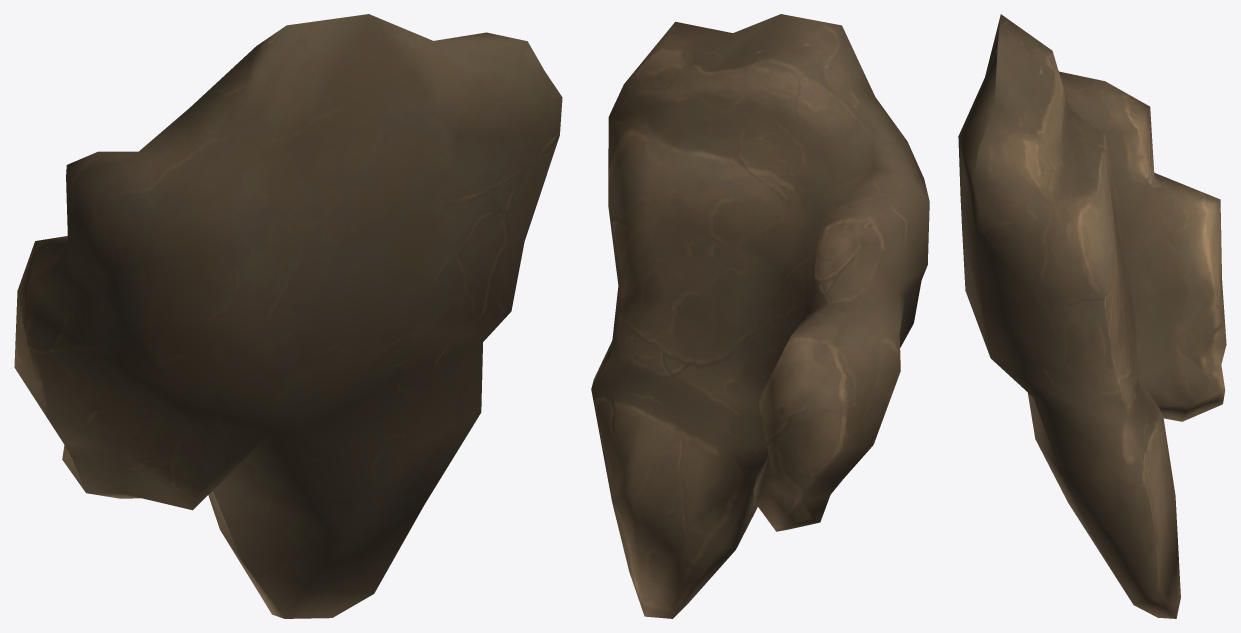
Rendered from dm_rock_09.fbx.
The picture shows the model from 3 angles, left to right: view 1: azimuth 30°, elevation 25°; view 2: azimuth 150°, elevation 25°; view 3: azimuth 270°, elevation 25°; orthographic projection. The views are drawn at different scales.
Parts seen in each view (by area): view 1: dm_rock_09; view 2: dm_rock_09; view 3: dm_rock_09.
Boxes of the visible parts, x1=… form: dm_rock_09: x1=14, y1=14, x2=562, y2=618; dm_rock_09: x1=591, y1=14, x2=929, y2=618; dm_rock_09: x1=958, y1=14, x2=1226, y2=618.
Bounding box in the file's own units: 2.17 × 3.33 × 1.46.
